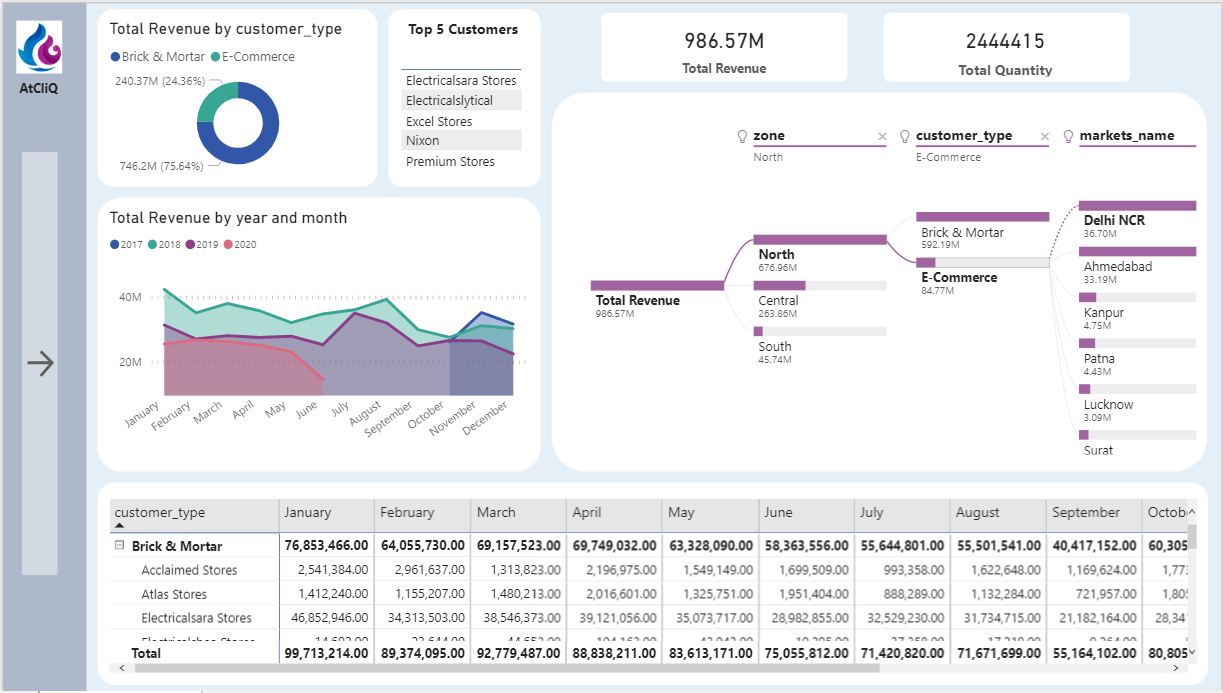

Layout of this report page (visuals, bound fields, positions):
{"tool":"powerbi","page":{"name":"Sales Report","canvas":[1280,720],"ordinal":0},"visuals":[{"type":"pivotTable","fields":{"Rows":["customers.customer_type","customers.custmer_name"],"Values":["Key Measures.Total Revenue"],"Columns":["date.month_name"]},"box":[108.2,514.5,1146.7,191.4],"z":0},{"type":"decompositionTreeVisual","fields":{"Analyze":["Key Measures.Total Revenue"],"ExplainBy":["markets.zone","customers.customer_type","markets.markets_name"]},"box":[586.7,114.5,668.2,363.9],"z":1000},{"type":"areaChart","title":"Total Revenue by year and month","fields":{"Y":["Key Measures.Total Revenue"],"Series":["date.year"],"Category":["date.month_name"]},"box":[108.2,214.9,445.5,263.5],"z":2000},{"type":"donutChart","fields":{"Y":["Key Measures.Total Revenue"],"Category":["customers.customer_type"]},"box":[108.2,17.3,279.2,169.4],"z":3000},{"type":"tableEx","title":"Top 5 Customers","fields":{"Values":["customers.custmer_name"]},"box":[412.5,17.3,141.2,169.4],"z":4000},{"type":"card","fields":{"Values":["Key Measures.Total Revenue"]},"box":[640,17.3,232.2,62.7],"z":5000},{"type":"card","fields":{"Values":["Key Measures.Total Quantity"]},"box":[934.9,17.3,230.6,65.9],"z":6000},{"type":"image","box":[0,14.1,80,65.9],"z":7000},{"type":"textbox","box":[10,76,59.6,32.9],"z":8000},{"type":"actionButton","box":[22,156.9,37.6,442.4],"z":9000}]}

Visuals, with their boxes on the page's 1280x720 design canvas (x1, y1, x2, y2). These are canvas units, not pixel positions in the 1223x693 screenshot, which may show the page scaled, cropped or inside an application window:
pivotTable - customers.customer_type x customers.custmer_name: [108, 514, 1255, 706]
decompositionTreeVisual - Key Measures.Total Revenue x markets.zone: [587, 114, 1255, 478]
"Total Revenue by year and month" areaChart: [108, 215, 554, 478]
donutChart - Key Measures.Total Revenue x customers.customer_type: [108, 17, 387, 187]
"Top 5 Customers" tableEx: [412, 17, 554, 187]
card - Key Measures.Total Revenue: [640, 17, 872, 80]
card - Key Measures.Total Quantity: [935, 17, 1166, 83]
image: [0, 14, 80, 80]
textbox: [10, 76, 70, 109]
actionButton: [22, 157, 60, 599]
